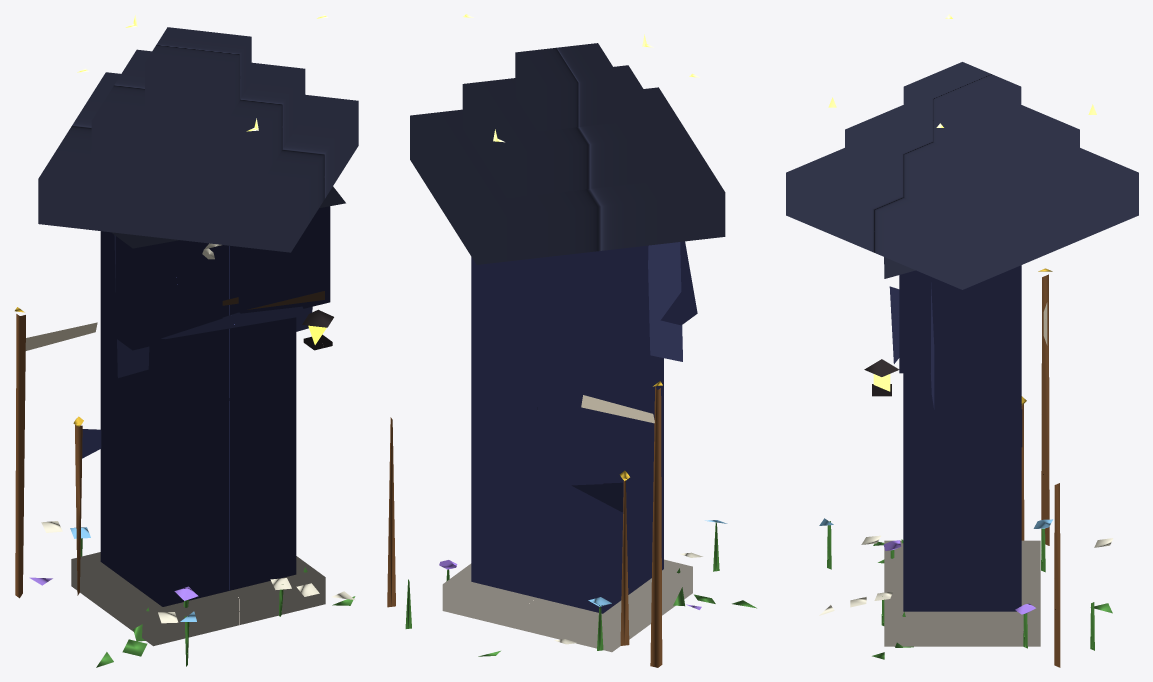
The model's file is bat-roost-blocky_lod2.glb.
3 views of the same model, side by side, from view 1: azimuth 30°, elevation 25°; view 2: azimuth 150°, elevation 25°; view 3: azimuth 270°, elevation 25° (orthographic). The views are drawn at different scales.
Parts seen in each view (by area): view 1: lv3, lv2, lv1; view 2: lv3, lv2; view 3: lv3, lv2.
Boxes of the visible parts, x1=… form: lv3: x1=15, y1=14, x2=358, y2=667; lv2: x1=70, y1=186, x2=355, y2=656; lv1: x1=133, y1=567, x2=307, y2=641; lv3: x1=387, y1=14, x2=756, y2=667; lv2: x1=439, y1=241, x2=715, y2=656; lv3: x1=786, y1=14, x2=1138, y2=667; lv2: x1=850, y1=257, x2=1112, y2=659.
Bounding box in the file's own units: 1.49 × 2.5 × 1.49.
